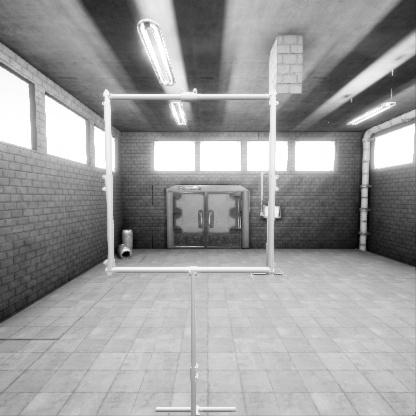gate: (118, 155, 286, 321), (261, 198, 275, 250)
